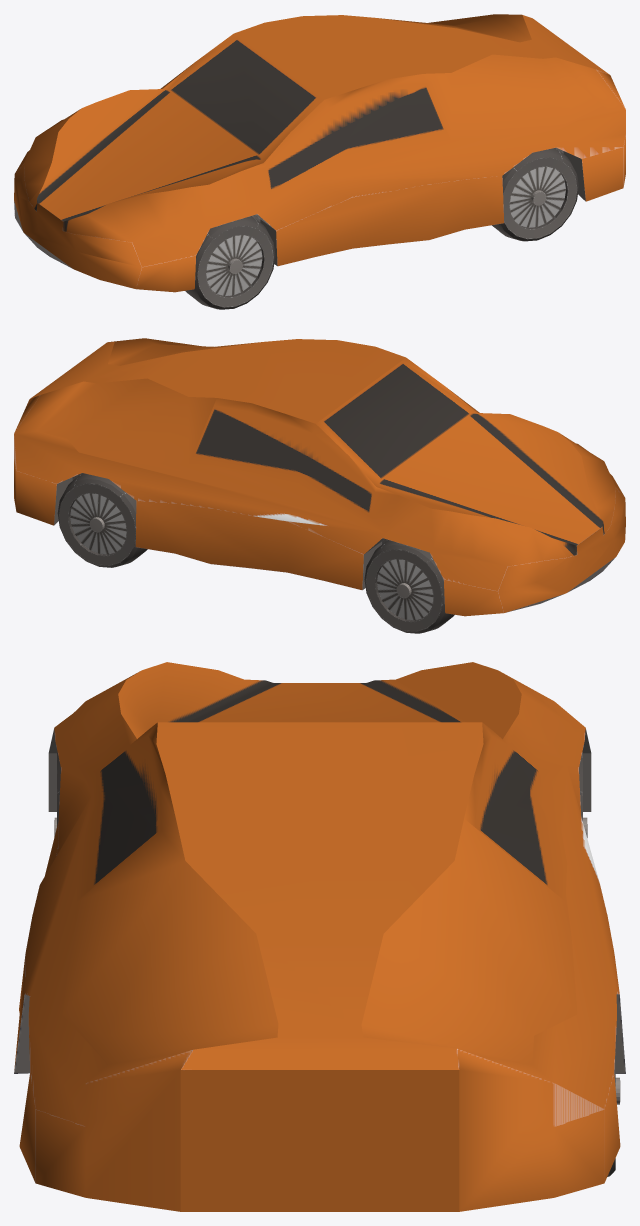
The model's file is PlayersVehicle.fbx.
The picture shows the model from 3 angles, top to bottom: view 1: azimuth 30°, elevation 25°; view 2: azimuth 150°, elevation 25°; view 3: azimuth 270°, elevation 25°; orthographic projection. The views are drawn at different scales.
Visible parts, largest first — view 1: pCube1, pasted__pCylinder1, pasted__pasted__pCylinder1; view 2: pCube1, pasted__pasted__pasted__pCylinder1, pasted__pasted__pCylinder1; view 3: pCube1.
Part boxes in pixels (box(x1,y1,x2,y2)): pCube1: box(14, 14, 625, 292); pasted__pCylinder1: box(185, 216, 275, 309); pasted__pasted__pCylinder1: box(492, 148, 578, 241); pCube1: box(14, 338, 625, 616); pasted__pasted__pasted__pCylinder1: box(57, 473, 147, 567); pasted__pasted__pCylinder1: box(364, 540, 454, 633); pCube1: box(14, 662, 625, 1211).
Size of the model in its own units: 934 by 279 by 518.
Materials: 5 (5 with a texture image).
